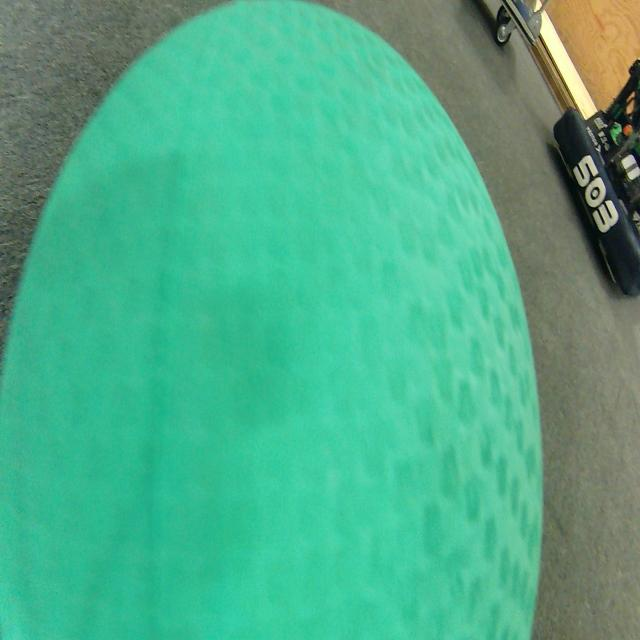algae: (0, 0, 542, 639)
